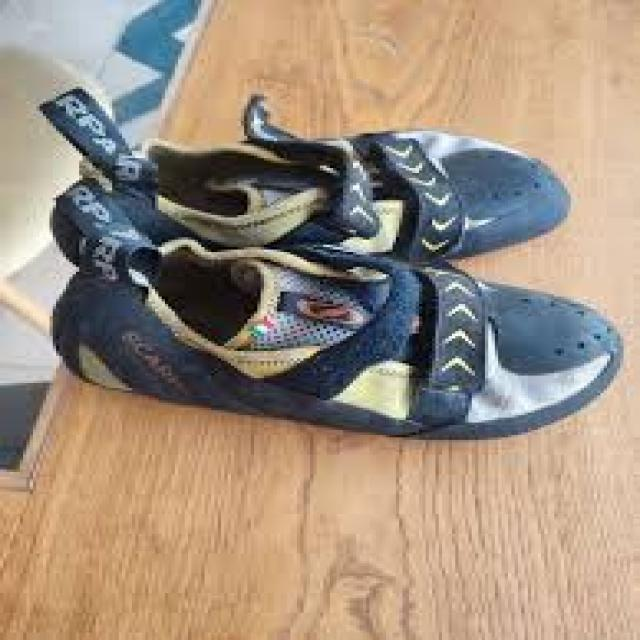climbing-shoes: (56, 245, 629, 441), (46, 129, 572, 260)
